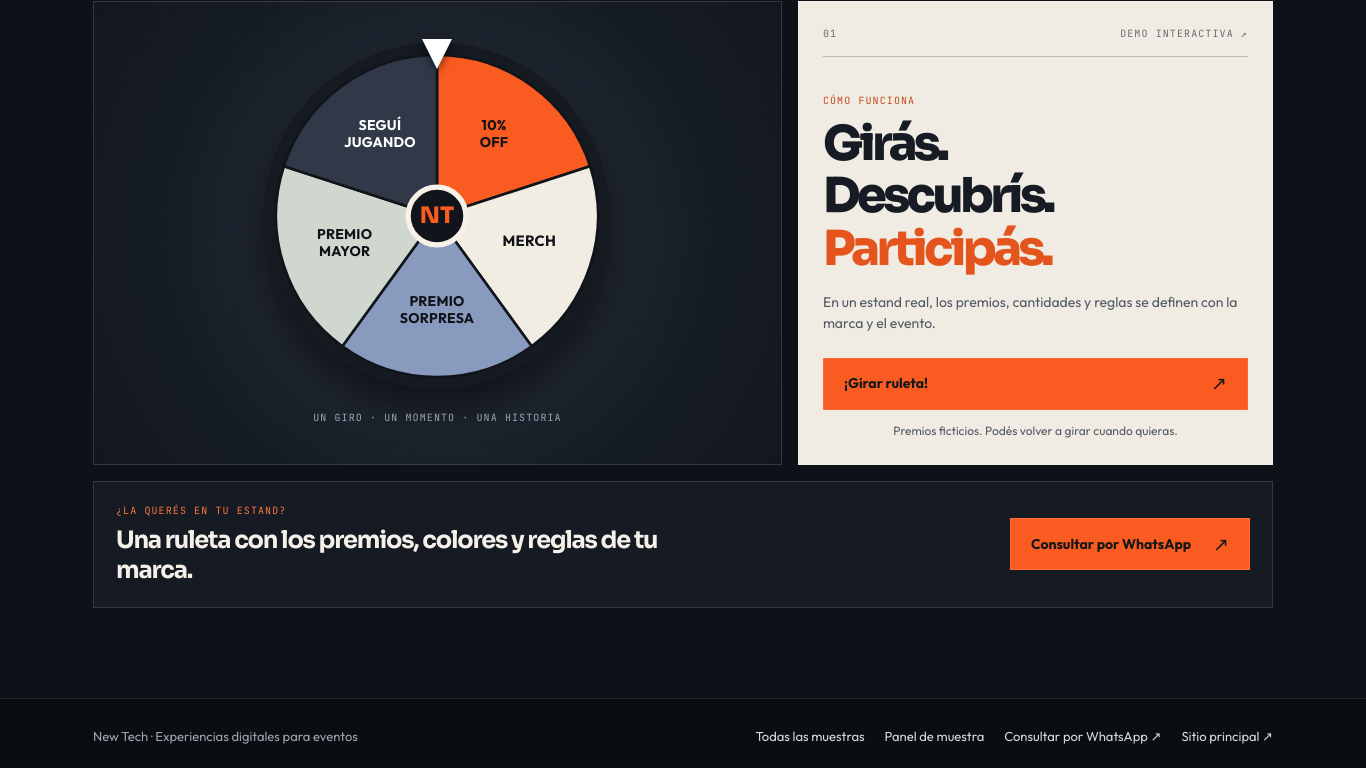
Test: demo de experiencias › entrega un premio y aclara que el formulario no guarda datos
(page scrolled)
Step 1. Click the button "¡Girar ruleta! ↗" → {"x": 886, "y": 383}, box [823, 358, 1248, 410]
Wait 4200 ms
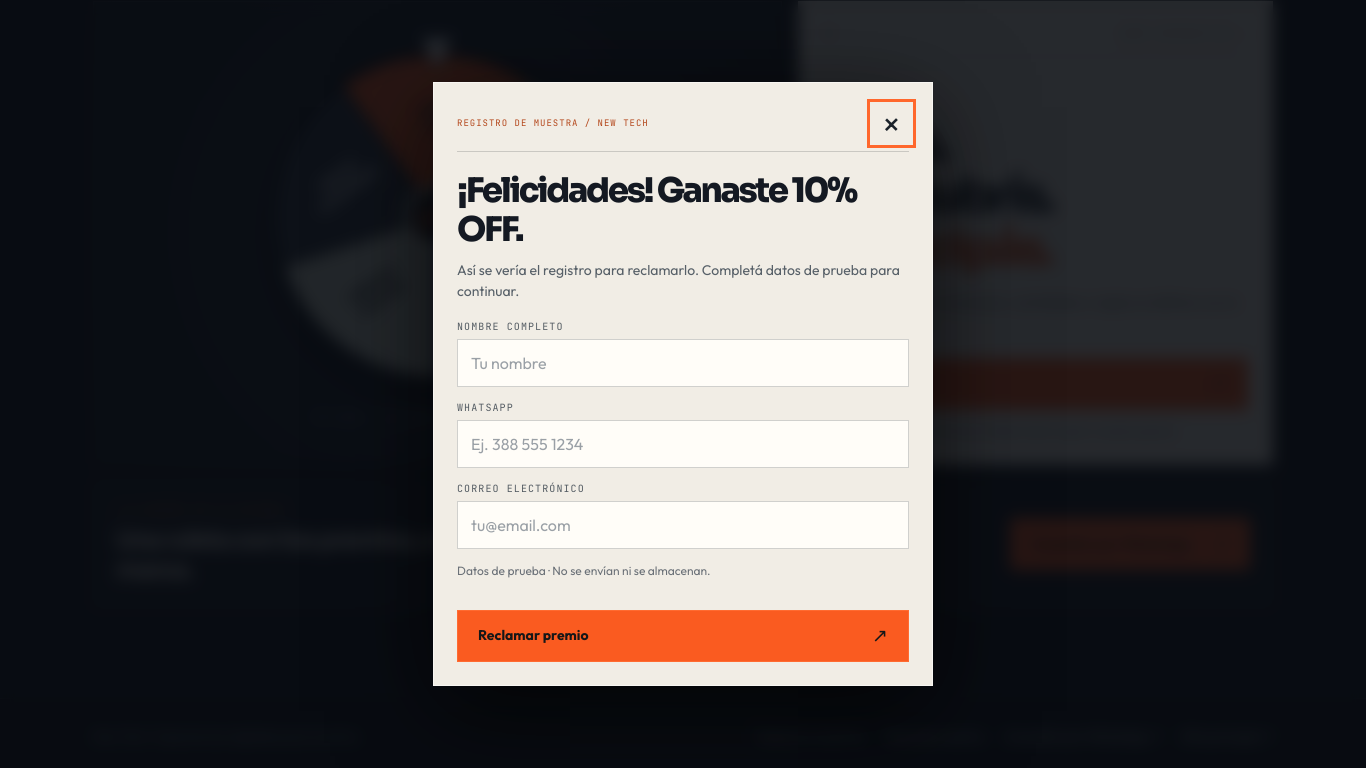
Result: the dialog "Ganaste 10% OFF" is shown at [433, 82, 933, 686]
Step 2. Type "Ana Prueba" into the field labelled "Nombre completo" → {"x": 683, "y": 363}, box [457, 339, 909, 387]
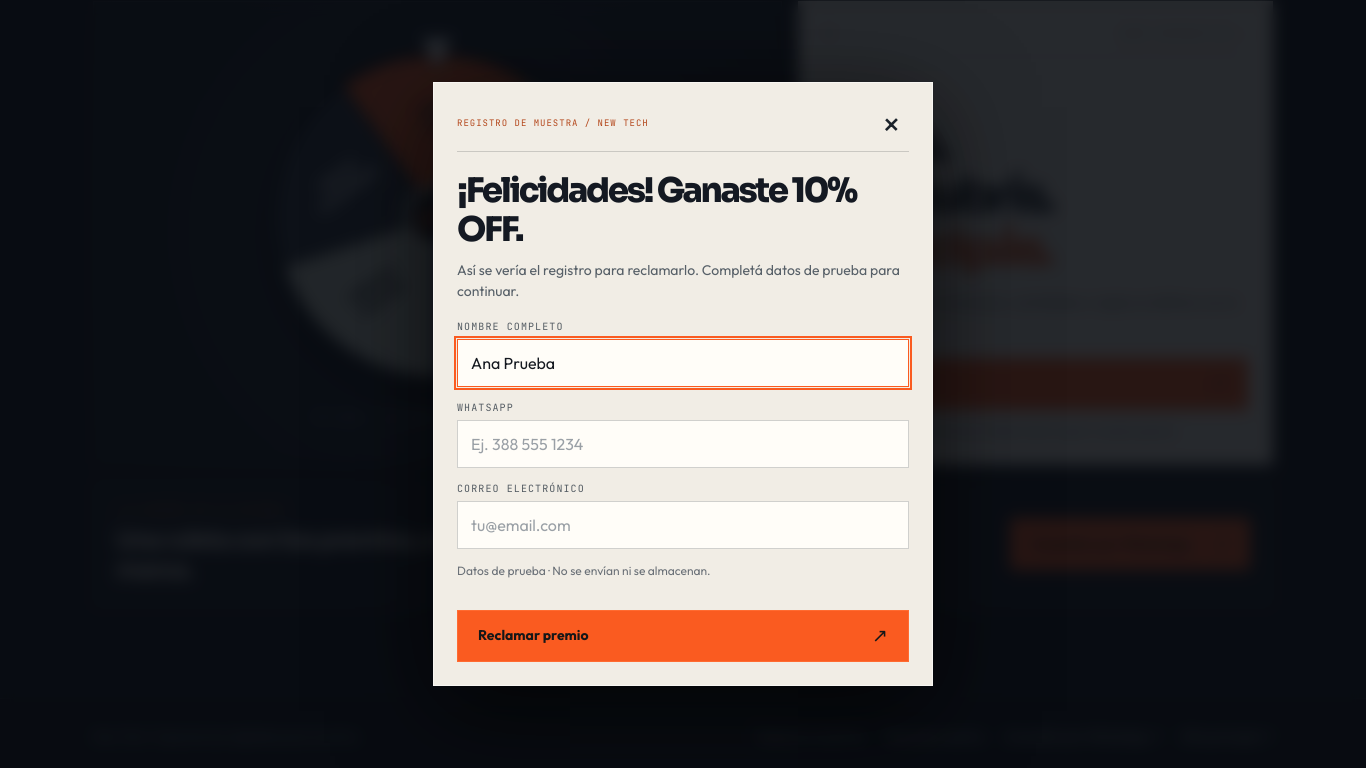
Step 3. Type "3885551234" into the field labelled "WhatsApp" → {"x": 683, "y": 444}, box [457, 420, 909, 468]
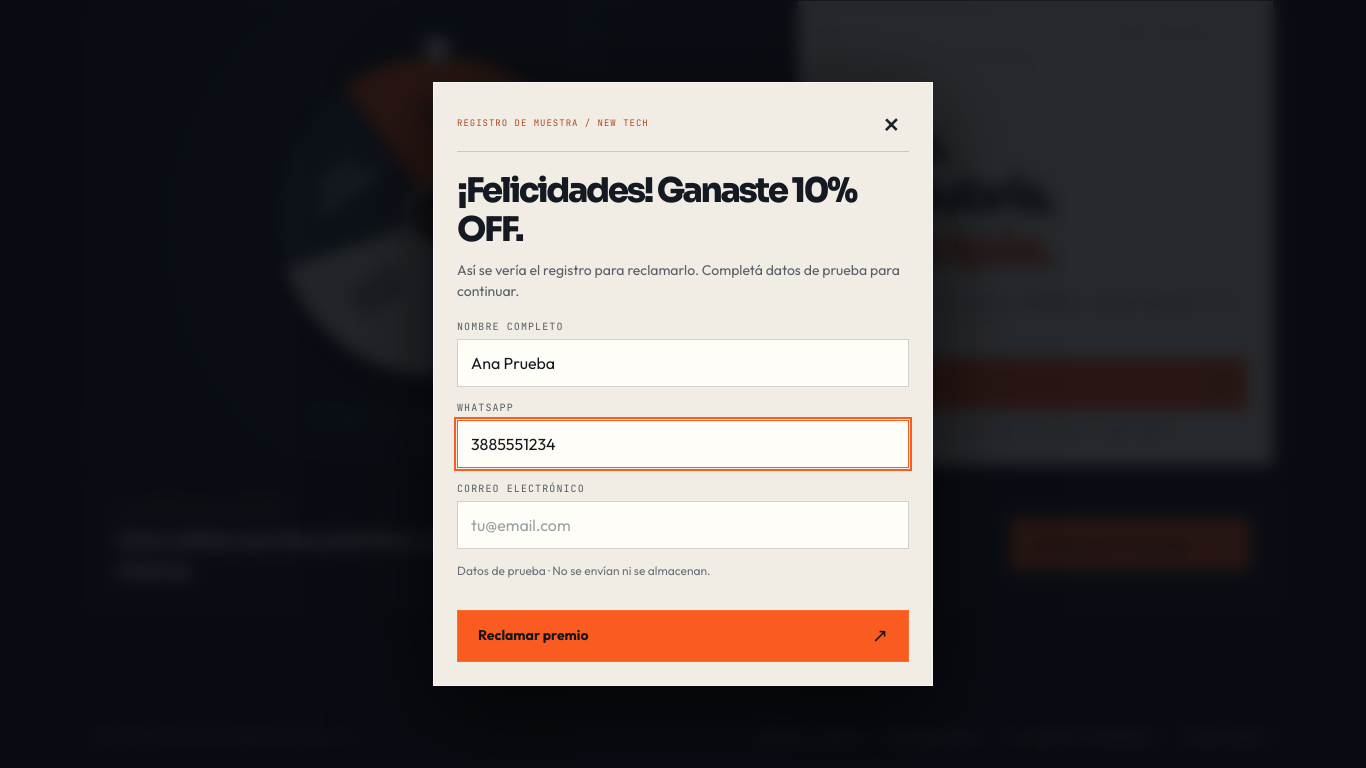
Step 4. Type "ana@example.com" into the field labelled "Correo electrónico" → {"x": 683, "y": 525}, box [457, 501, 909, 549]
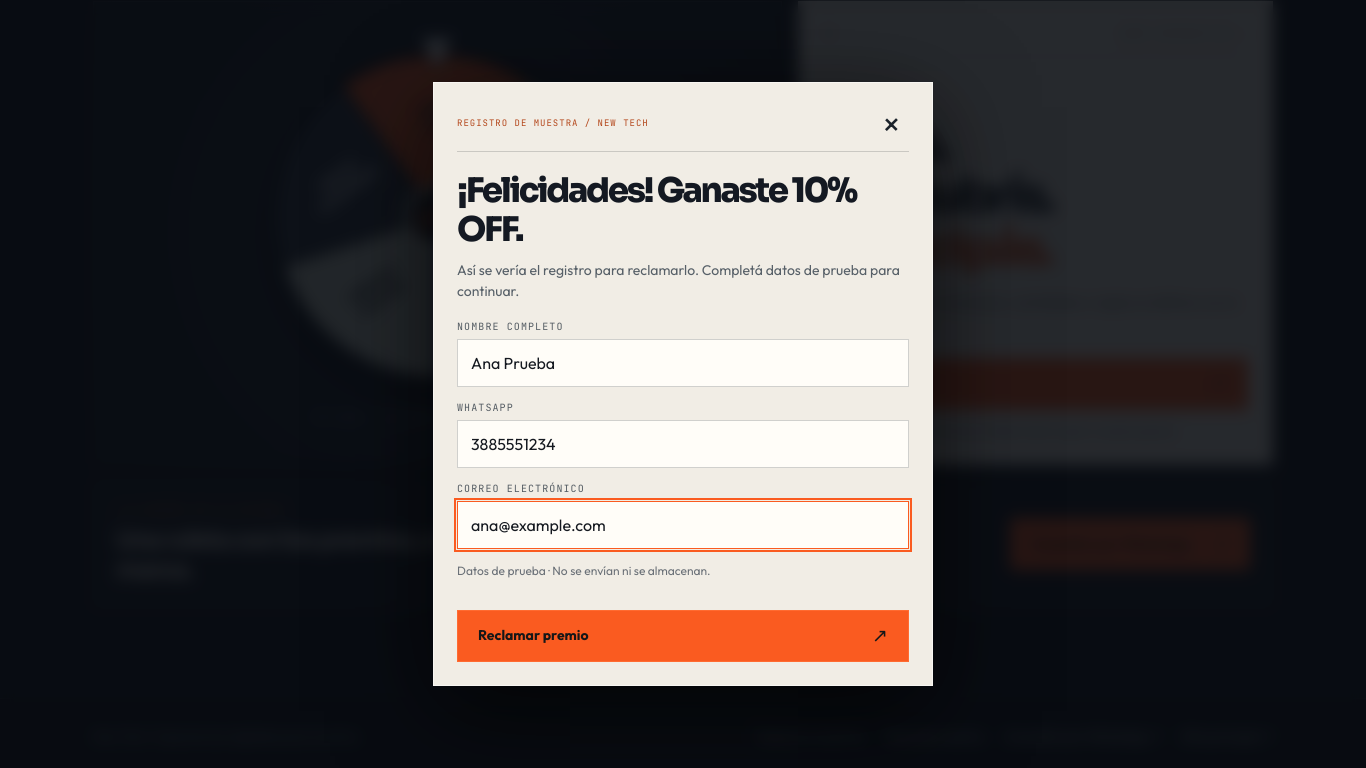
Step 5. Click the button "Reclamar premio ↗" → {"x": 533, "y": 635}, box [457, 610, 909, 662]
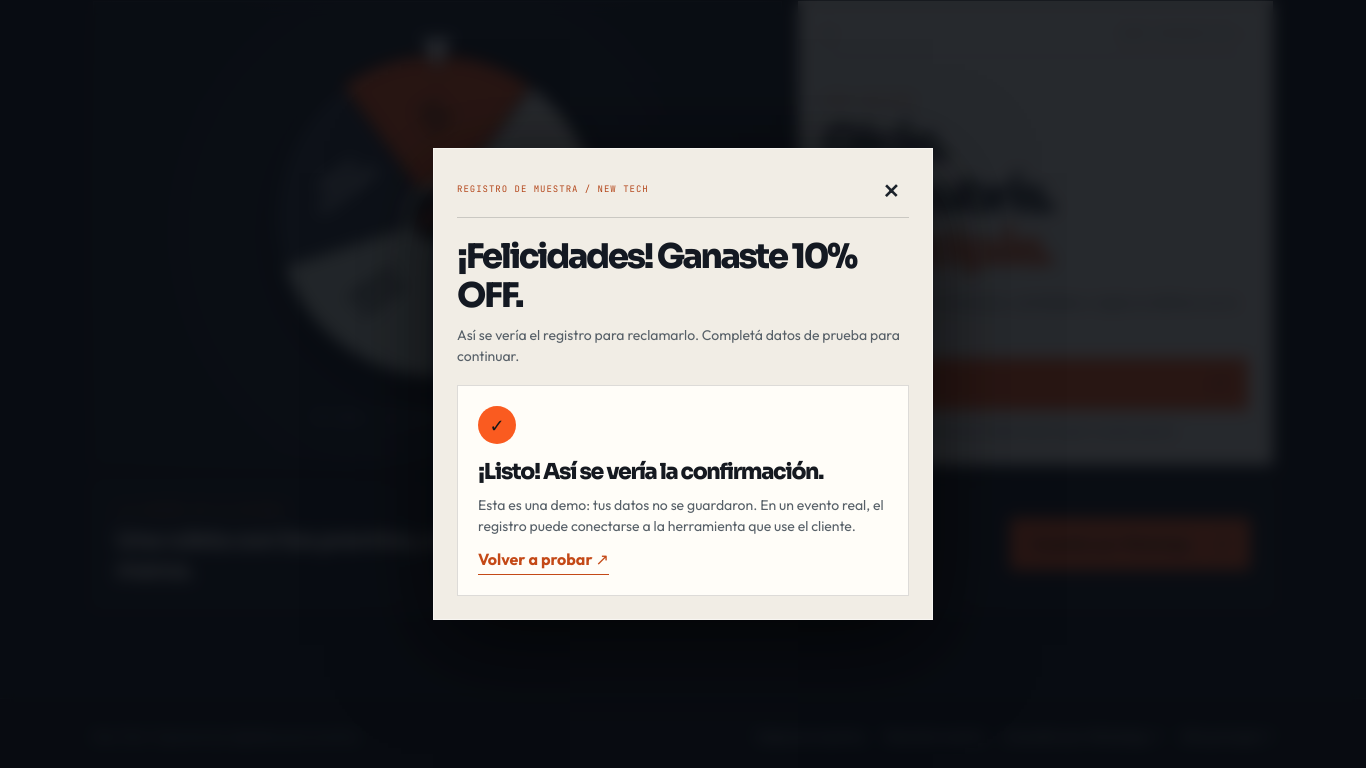
Result: the text "tus datos no se guardaron" is shown at [478, 496, 884, 535]
